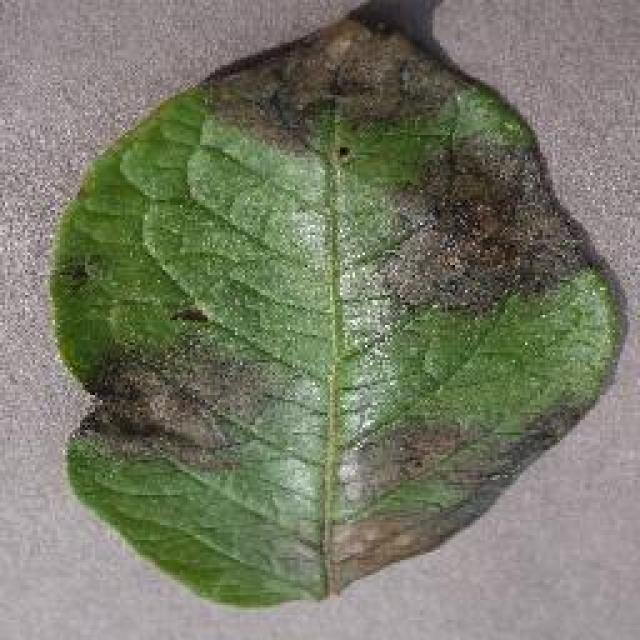Potato: (45, 0, 627, 610)
